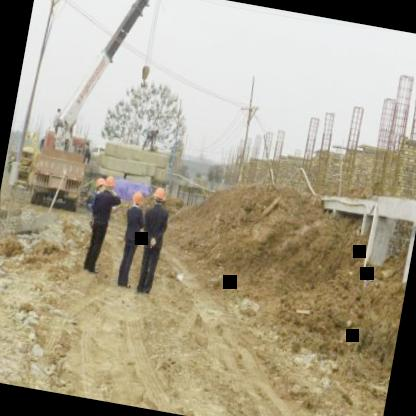helmet: (148, 183, 167, 206), (130, 186, 146, 210), (102, 171, 118, 195), (92, 174, 106, 200)
